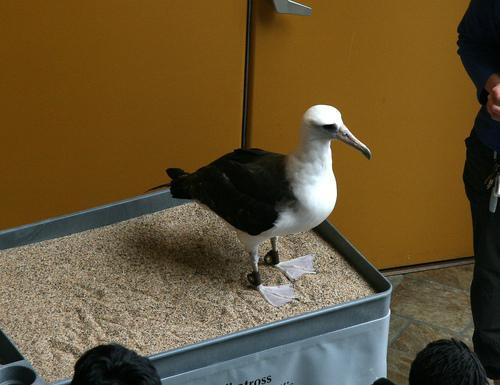002.Laysan_Albatross: (147, 102, 394, 308)
